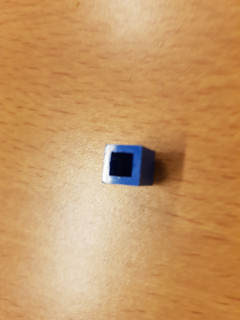1x1 blue: (99, 141, 159, 189)
